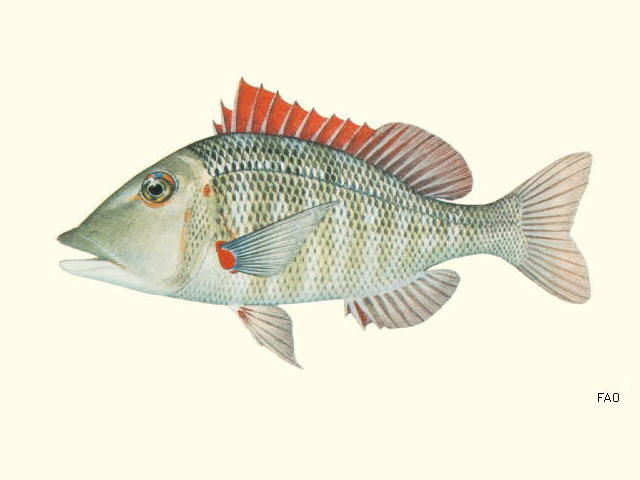fish: (56, 77, 592, 370)
